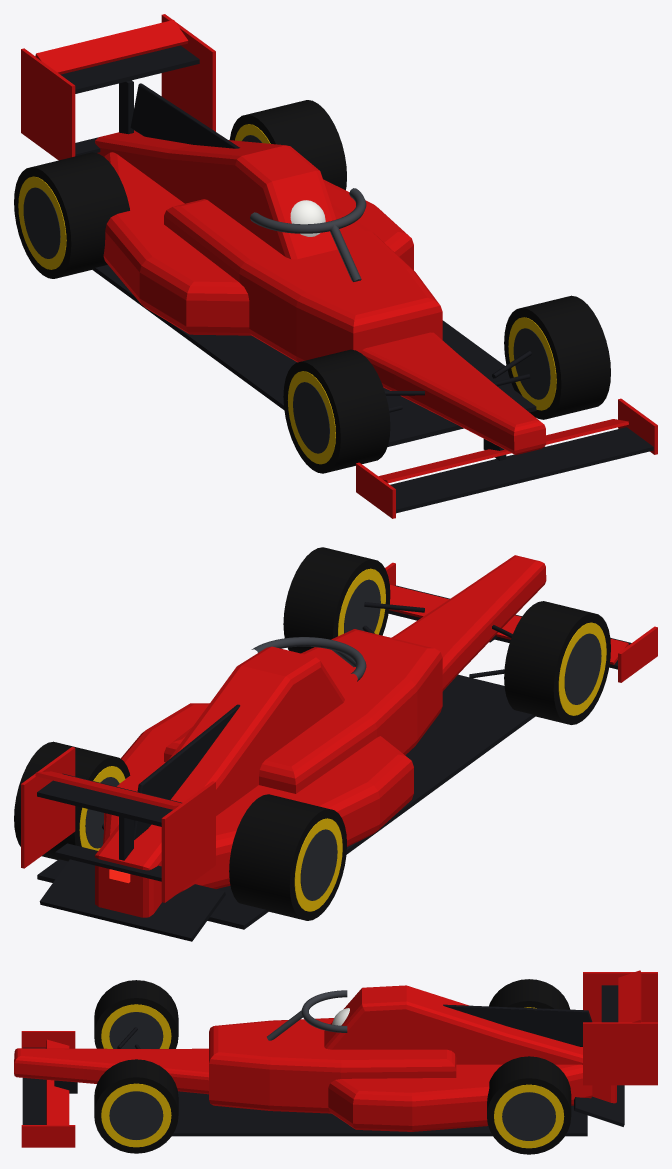
The model's file is f1-car.glb.
3 renders of one model, top to bottom at view 1: azimuth 30°, elevation 25°; view 2: azimuth 150°, elevation 25°; view 3: azimuth 270°, elevation 25°, orthographic. The views are drawn at different scales.
Visible parts, largest first — view 1: Monocoque, Sidepods, EngineCover, Endplate (×4), Nose, Floor, FrontWing, Wheel_RR_Tire, Wheel_FR_Tire, Wheel_FL_Tire, Wheel_RL_Tire, RearFlap (+12 smaller); view 2: EngineCover, Monocoque, Sidepods, Endplate (×3), Floor, Wheel_RR_Tire, Nose, Wheel_FR_Tire, Wheel_FL_Tire, Diffuser, Wheel_RL_Tire, SharkFin (+14 smaller); view 3: Monocoque, EngineCover, Sidepods, Endplate (×4), Floor, Nose, Wheel_RL_Tire, Wheel_FL_Tire, SharkFin, Wheel_FR_Tire, Wheel_RL_Rim, Wheel_FL_Rim (+12 smaller).
Boxes of the visible parts, x1,y1,x2,y2 form: Monocoque: [164, 199, 442, 362]; Sidepods: [103, 152, 413, 335]; EngineCover: [95, 130, 339, 259]; Endplate (×4): [21, 14, 657, 518]; Nose: [360, 332, 546, 454]; Floor: [92, 265, 536, 446]; FrontWing: [390, 427, 653, 513]; Wheel_RR_Tire: [14, 152, 129, 278]; Wheel_FR_Tire: [283, 349, 390, 473]; Wheel_FL_Tire: [504, 295, 610, 419]; Wheel_RL_Tire: [229, 100, 346, 190]; RearFlap: [35, 20, 188, 74]; EngineCover: [95, 646, 344, 917]; Monocoque: [164, 629, 442, 793]; Sidepods: [103, 703, 413, 893]; Endplate (×3): [21, 626, 657, 902]; Floor: [37, 674, 535, 929]; Wheel_RR_Tire: [229, 794, 346, 920]; Nose: [391, 555, 546, 691]; Wheel_FR_Tire: [504, 601, 610, 724]; Wheel_FL_Tire: [283, 547, 390, 653]; Diffuser: [39, 859, 225, 941]; Wheel_RL_Tire: [14, 741, 130, 861]; SharkFin: [134, 704, 240, 839]; Monocoque: [209, 1018, 456, 1113]; EngineCover: [324, 985, 616, 1105]; Sidepods: [328, 1064, 592, 1131]; Endplate (×4): [21, 972, 657, 1147]; Floor: [172, 1091, 587, 1136]; Nose: [14, 1048, 208, 1094]; Wheel_RL_Tire: [487, 1056, 571, 1154]; Wheel_FL_Tire: [94, 1059, 178, 1153]; SharkFin: [443, 1004, 592, 1046]; Wheel_FR_Tire: [94, 980, 178, 1048]; Wheel_RL_Rim: [502, 1092, 555, 1140]; Wheel_FL_Rim: [109, 1091, 163, 1139].
Bounding box in the file's own units: 2.01 × 1.05 × 5.49.
